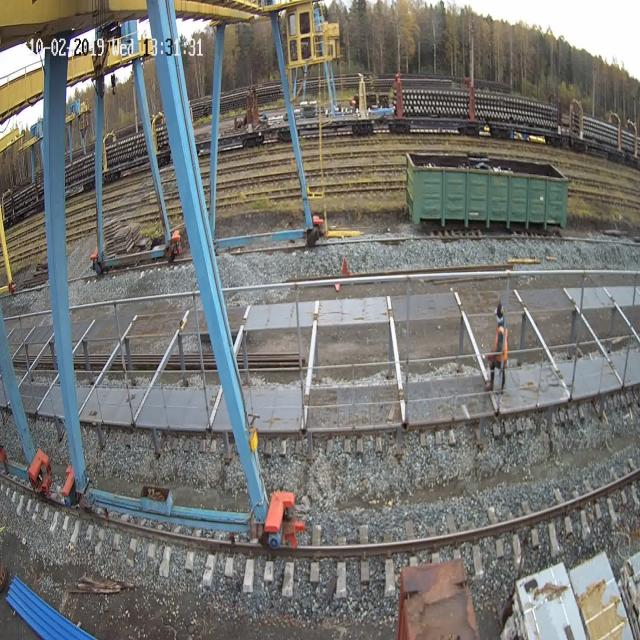Head: (492, 306, 510, 326)
Person: (483, 300, 515, 394)
